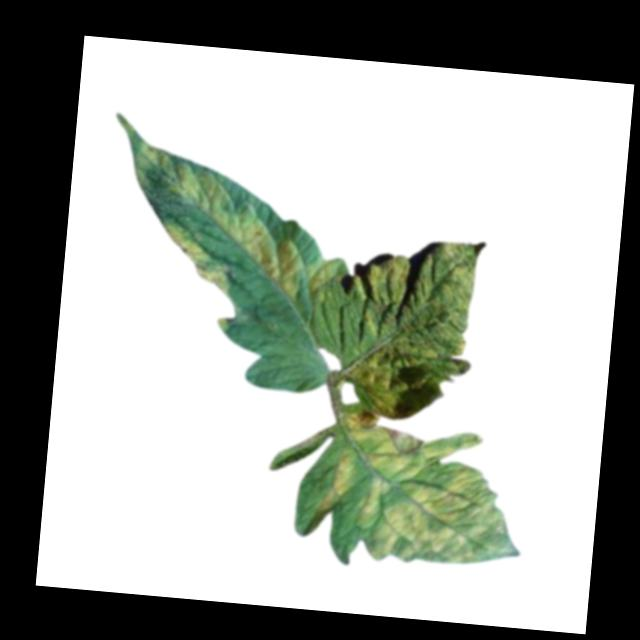Leaf_Mold: (121, 140, 352, 311), (303, 416, 532, 574), (343, 229, 487, 428), (161, 223, 235, 297)
